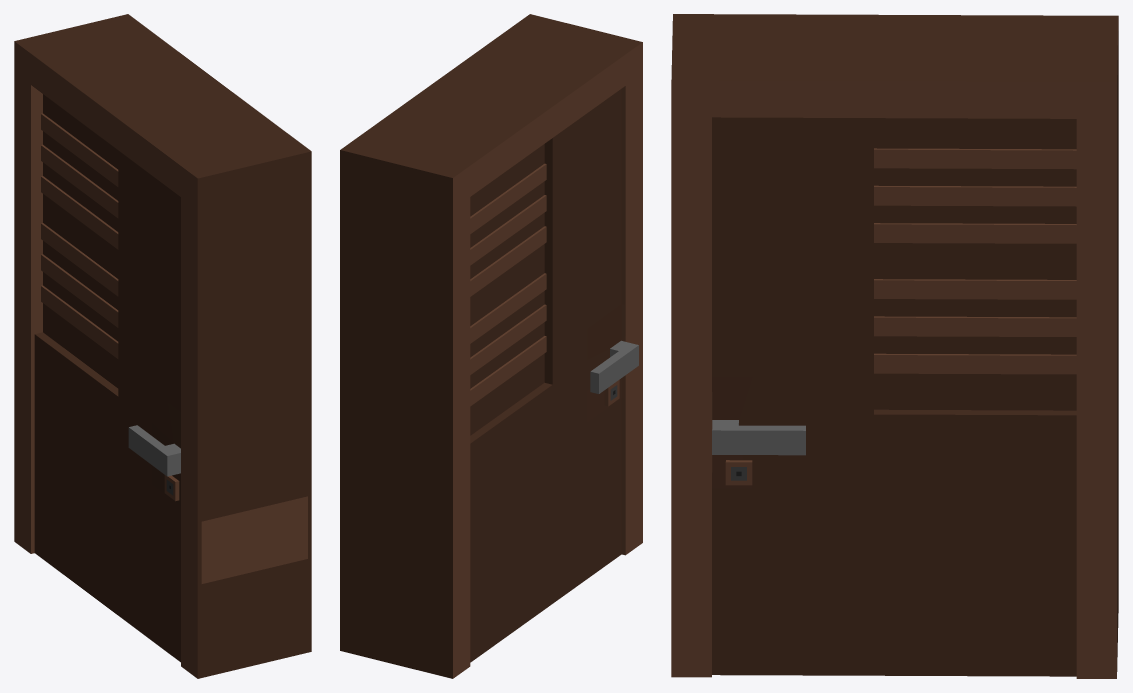
The model's file is BigDoor.fbx.
3 views of the same model, side by side, from view 1: azimuth 30°, elevation 25°; view 2: azimuth 150°, elevation 25°; view 3: azimuth 270°, elevation 25° (orthographic). The views are drawn at different scales.
Parts seen in each view (by area): view 1: Cube.003; view 2: Cube.003; view 3: Cube.003.
Part boxes in pixels (left/top/right/bottom): Cube.003: left=14, top=14, right=311, bottom=678; Cube.003: left=340, top=14, right=642, bottom=678; Cube.003: left=671, top=14, right=1118, bottom=678.
Bounding box in the file's own units: 91.4 × 310 × 210.
Materials: 1 (1 with a texture image).
